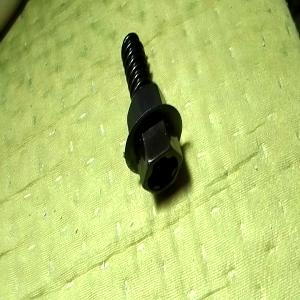parafuso: (120, 29, 184, 197)
